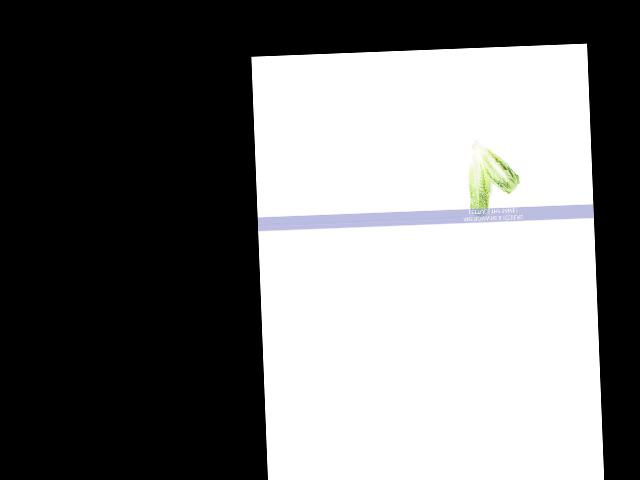lettuce: (471, 131, 517, 198)
